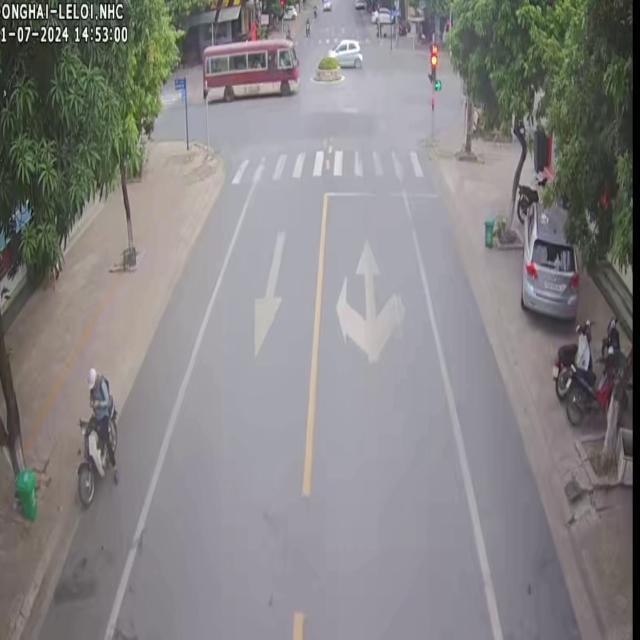car: (519, 200, 577, 318), (202, 36, 297, 100), (327, 38, 360, 66)
motobike: (76, 365, 117, 505), (564, 349, 622, 422), (550, 318, 589, 398)
red_light: (431, 43, 437, 79)
stop_line: (325, 189, 442, 198)
